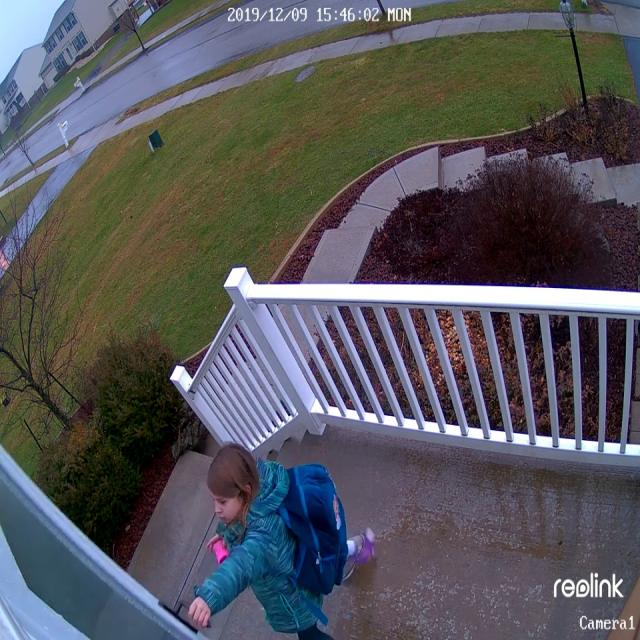child: (190, 442, 375, 640)
